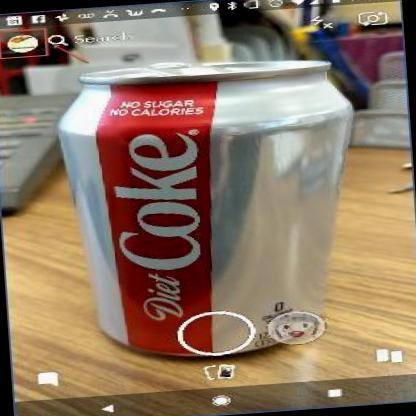alumunium_can: (52, 49, 373, 368)
